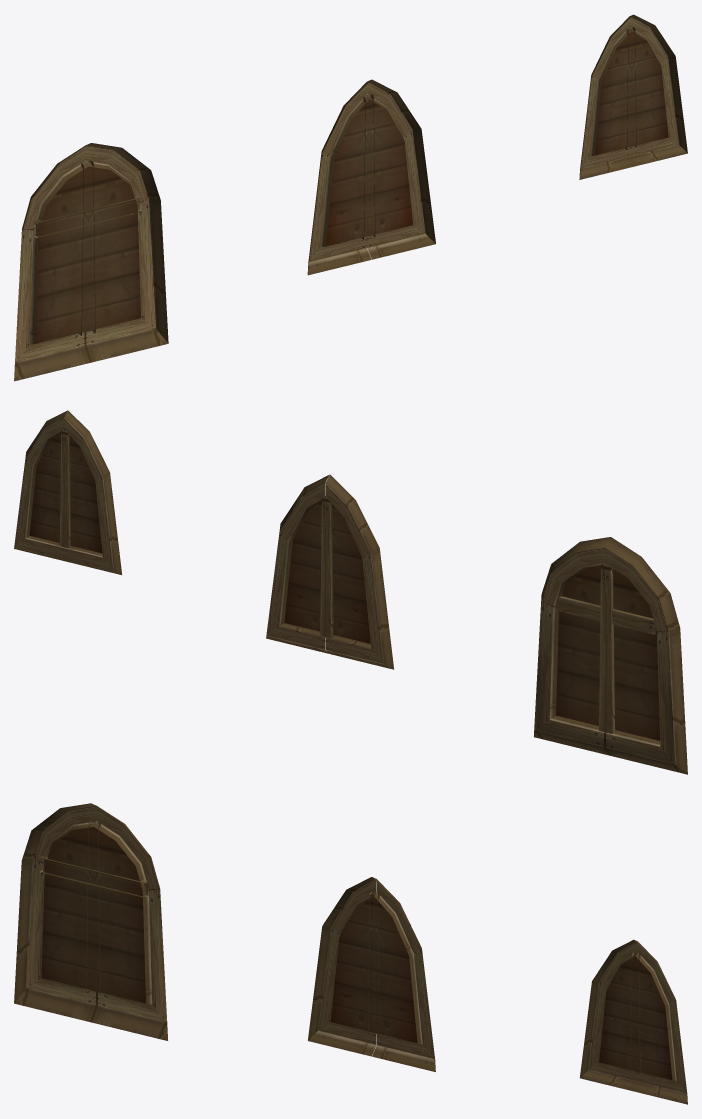
The model's file is ZF_chuang01.FBX.
3 renders of one model, top to bottom at view 1: azimuth 30°, elevation 25°; view 2: azimuth 150°, elevation 25°; view 3: azimuth 330°, elevation 25°, orthographic.
Parts seen in each view (by area): view 1: ZF_chuang01_001, ZF_chuang01_002, ZF_chuang01_003; view 2: ZF_chuang01_001, ZF_chuang01_002, ZF_chuang01_003; view 3: ZF_chuang01_001, ZF_chuang01_002, ZF_chuang01_003.
Boxes of the visible parts, <box> form: ZF_chuang01_001: <box>14,143,168,381</box>; ZF_chuang01_002: <box>307,79,435,275</box>; ZF_chuang01_003: <box>579,14,687,179</box>; ZF_chuang01_001: <box>534,537,687,774</box>; ZF_chuang01_002: <box>266,474,393,669</box>; ZF_chuang01_003: <box>14,410,121,574</box>; ZF_chuang01_001: <box>14,803,167,1040</box>; ZF_chuang01_002: <box>308,877,435,1071</box>; ZF_chuang01_003: <box>580,939,687,1104</box>.
Bounding box in the file's own units: 1461 × 455 × 21.99.
